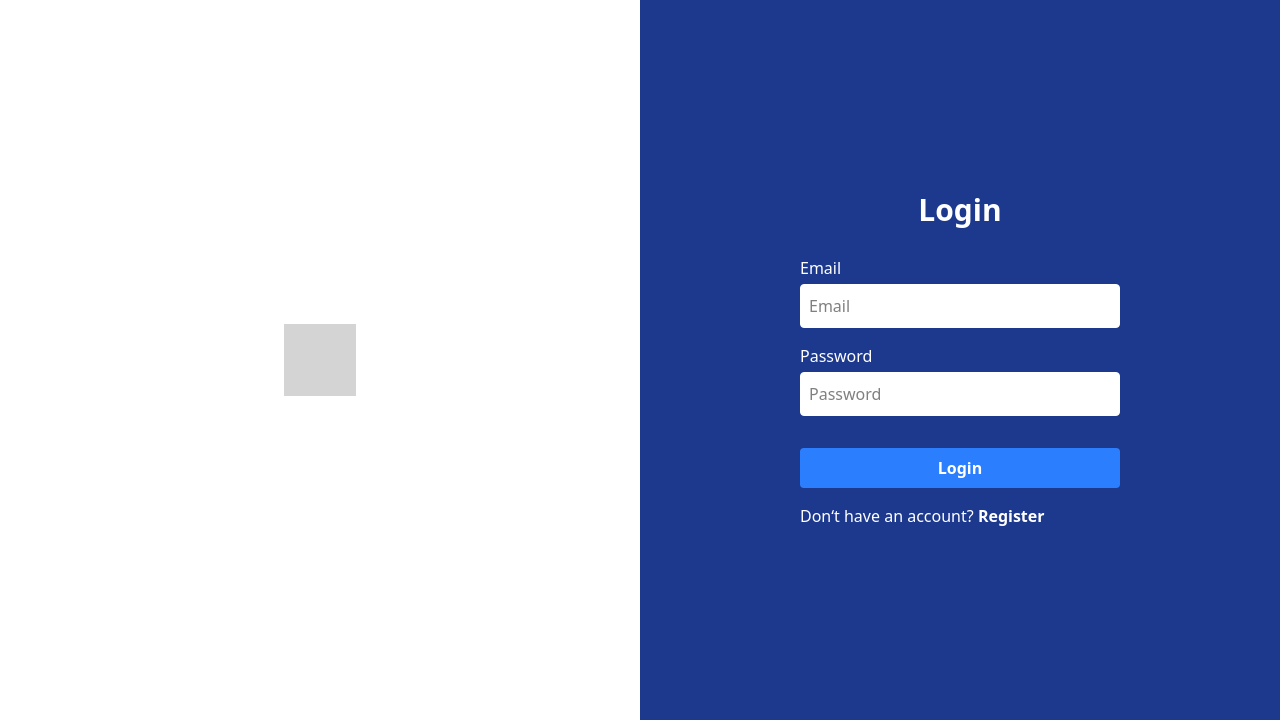
Test case: Login spec › should display error message when password is empty
The width and height of the screenshot is (1280, 720).
In the field with placeholder "Email": [960, 306] box [800, 284, 1120, 328], type "testuser@mail.co"
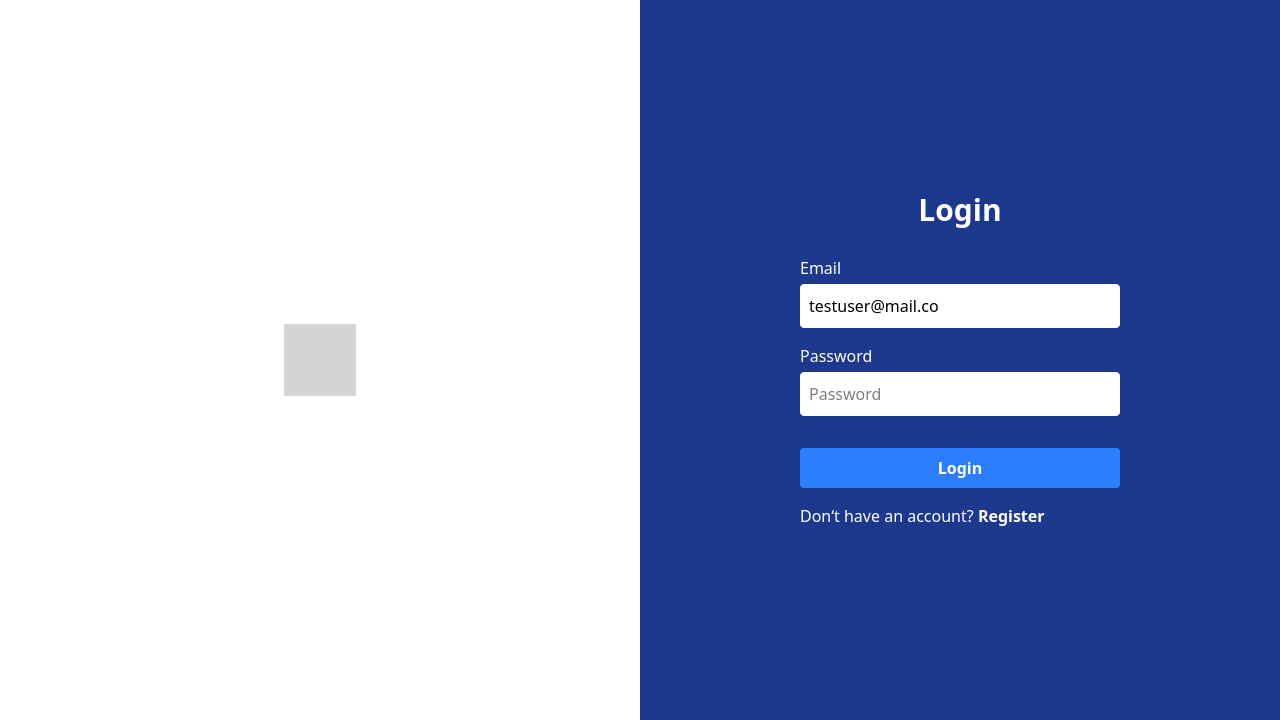
Click the button "Login": [960, 468] box [800, 448, 1120, 488]
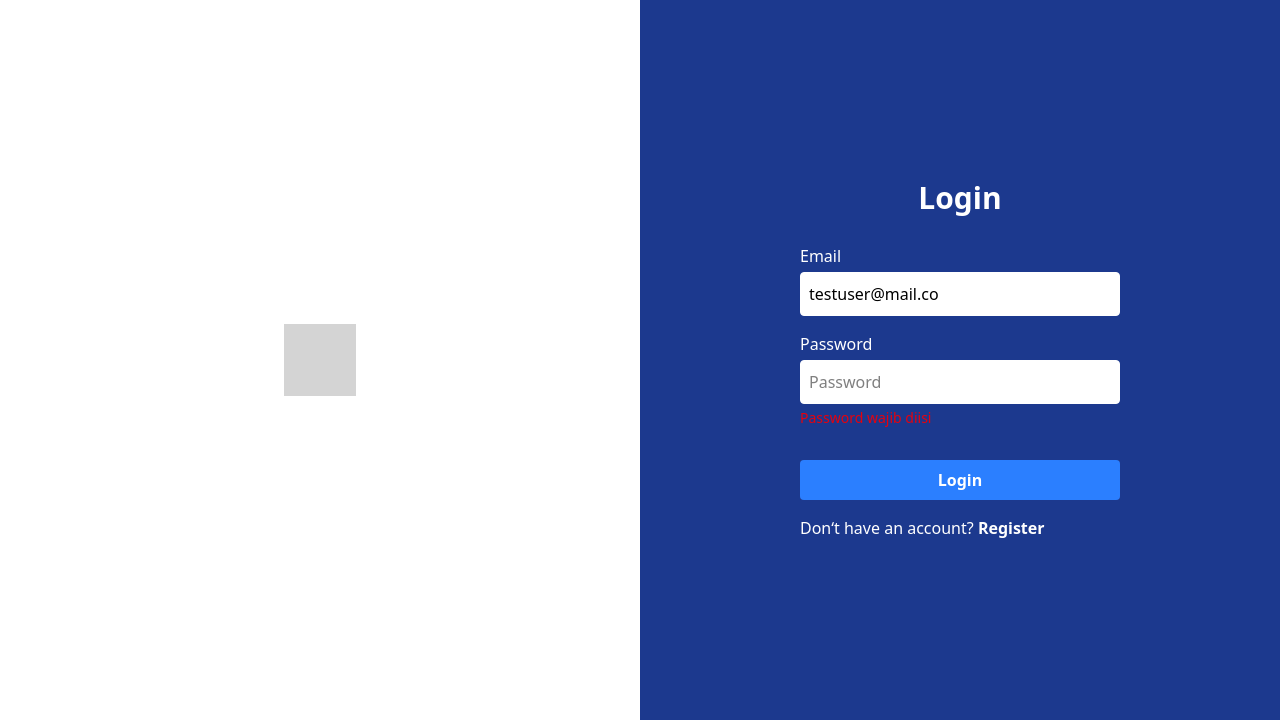
Expected: the text "Password wajib diisi" is shown, [800, 408, 932, 427]
